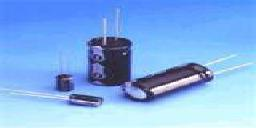Electrolytic Capacitor: (81, 9, 136, 86), (122, 64, 240, 98), (3, 86, 120, 120), (50, 48, 81, 95)
